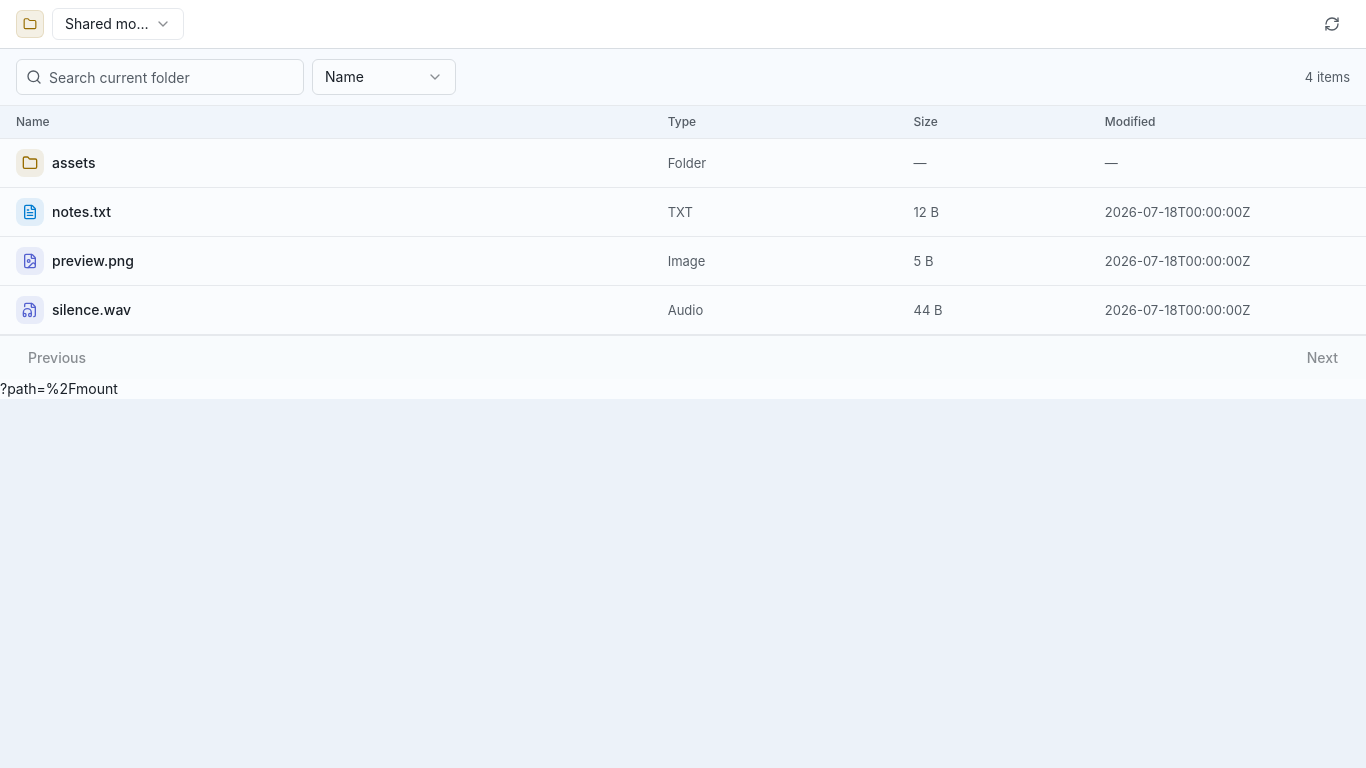
<StoragePage> › does not allow an unchanged filename to be submitted as a rename
Right-click the row "notes.txt" at (683, 212), box x1=0 y1=188 x2=1365 y2=236
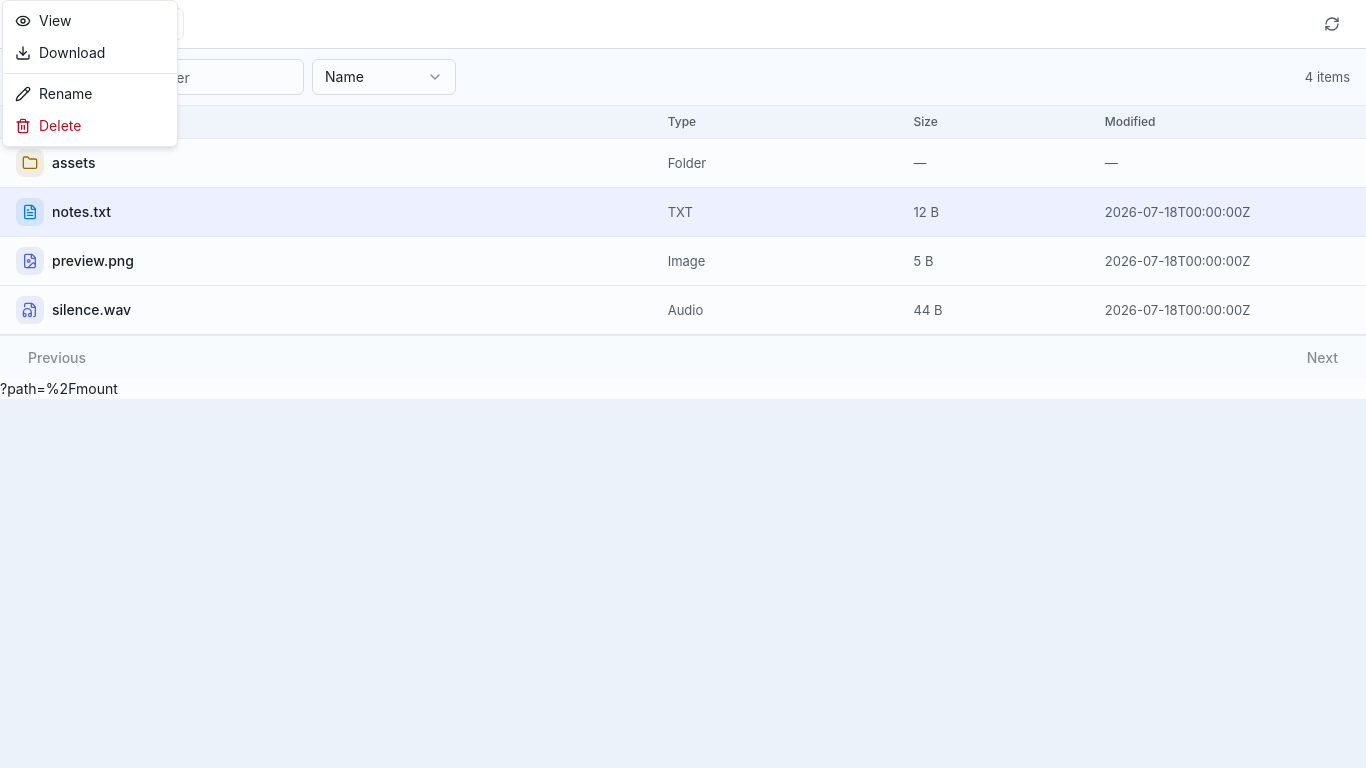
Click the menu item "Rename" at (54, 94), box x1=15 y1=85 x2=92 y2=102
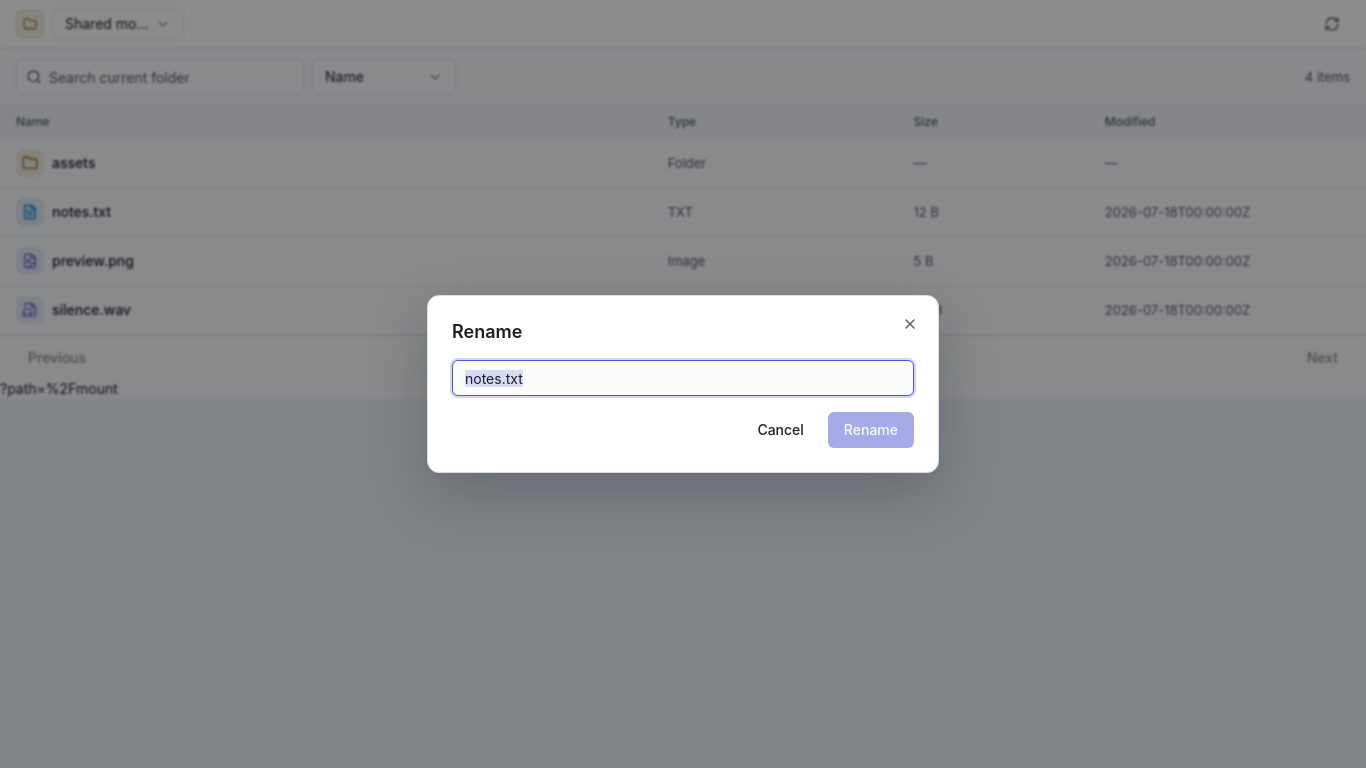
Expected: the button "Rename" is disabled, x1=828 y1=412 x2=914 y2=448
